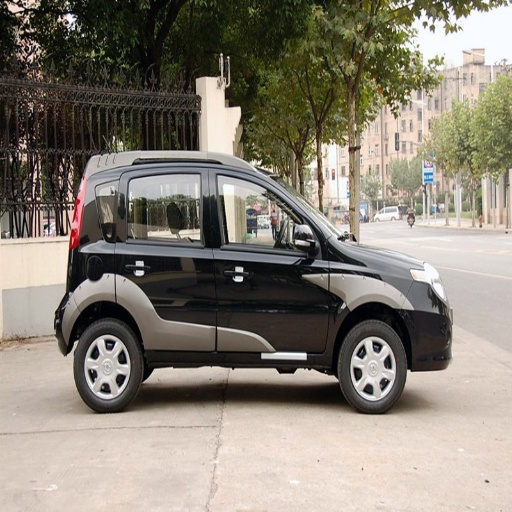back_right_door: (112, 164, 217, 363)
front_right_door: (211, 165, 329, 351)
